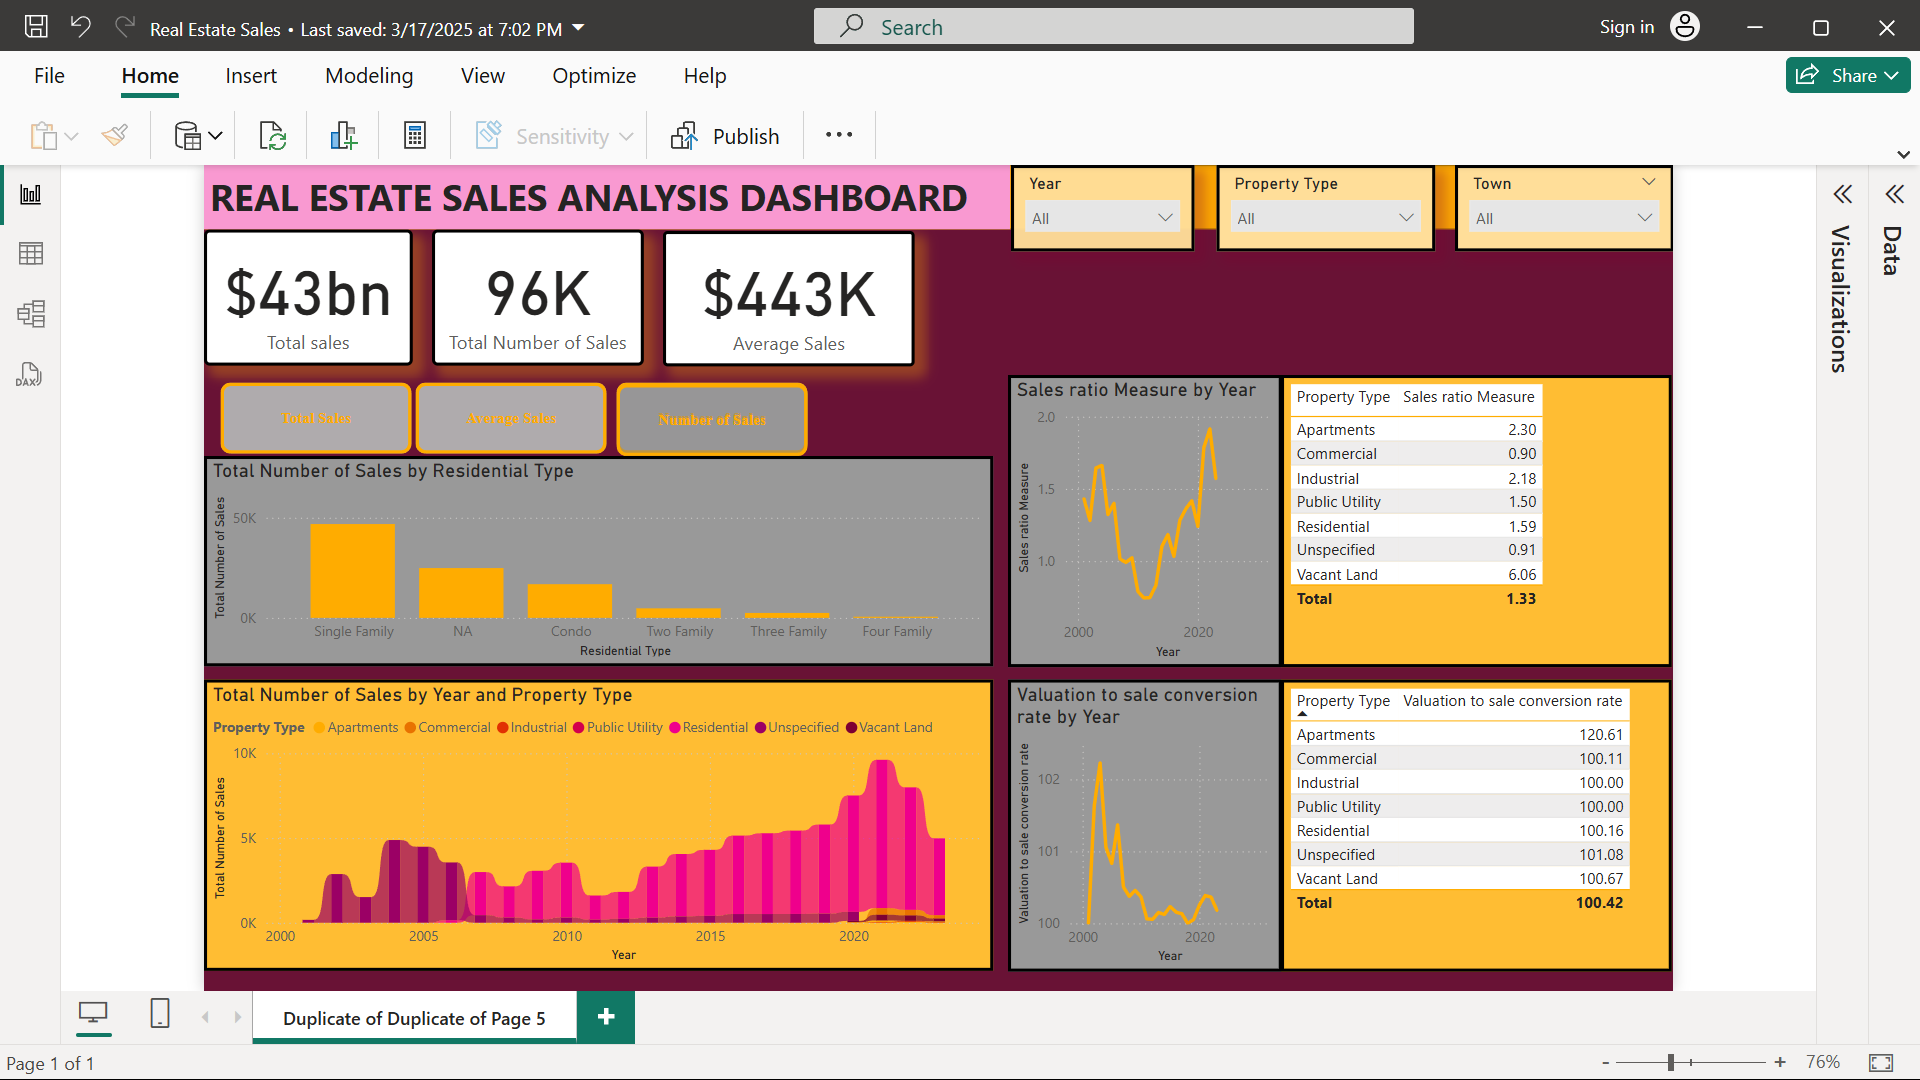

The dashboard page shown, as its layout file describes it:
{"tool":"powerbi","page":{"name":"Duplicate of Duplicate of Page 5","canvas":[1280,720],"ordinal":0},"visuals":[{"type":"shape","box":[0,0,1279.5,56],"z":0},{"type":"card","fields":{"Values":["Real_Estate_Sales_2001-2022_GL.Total sales"]},"box":[0,56.2,181.7,119],"z":1000},{"type":"card","fields":{"Values":["Real_Estate_Sales_2001-2022_GL.Total Number of Sales"]},"box":[198.7,56.2,184.4,119],"z":4000},{"type":"card","fields":{"Values":["Real_Estate_Sales_2001-2022_GL.Average Sales"]},"box":[400.1,57.5,219.7,117.7],"z":5000},{"type":"lineChart","fields":{"Y":["Real_Estate_Sales_2001-2022_GL.Valuation to sale conversion rate"],"Category":["CALENDAR.Date Hierachy.Year"]},"box":[700.4,448.7,238.7,254.5],"z":6000},{"type":"barChart","fields":{"Category":["Real_Estate_Sales_2001-2022_GL.Property Type"],"Y":["Real_Estate_Sales_2001-2022_GL.Valuation to sale conversion rate"]},"box":[939.1,448.7,340.8,254.5],"z":7000},{"type":"slicer","fields":{"Values":["CALENDAR.Year"]},"box":[702.9,0,159.8,75.1],"z":8000},{"type":"slicer","fields":{"Values":["Real_Estate_Sales_2001-2022_GL.Property Type"]},"box":[882,0,190.7,75.1],"z":9000},{"type":"slicer","fields":{"Values":["Real_Estate_Sales_2001-2022_GL.Town"]},"box":[1090,0,190.7,75.1],"z":10000},{"type":"ribbonChart","fields":{"Y":["Real_Estate_Sales_2001-2022_GL.Total Number of Sales"],"Category":["CALENDAR.Date Hierachy.Year"],"Series":["Real_Estate_Sales_2001-2022_GL.Property Type"]},"box":[0,448.7,687.8,254],"z":15000},{"type":"clusteredColumnChart","fields":{"Y":["Real_Estate_Sales_2001-2022_GL.Total Number of Sales"],"Category":["Real_Estate_Sales_2001-2022_GL.Residential Type"]},"box":[0,254,687.8,183.1],"z":16000},{"type":"actionButton","title":"Inact Number of Sales","box":[359,190,166.6,62.1],"z":17000},{"type":"actionButton","title":"Inac Avg sales","box":[184,190,166.6,62.1],"z":18000},{"type":"actionButton","title":"Inact Total Sales","box":[14,190,166.6,62.1],"z":19000},{"type":"actionButton","title":"Act Num of Sales","box":[359.6,191,166.6,63],"z":20000},{"type":"textbox","box":[0,0,702.6,56],"z":23000},{"type":"lineChart","fields":{"Y":["Real_Estate_Sales_2001-2022_GL.Sales ratio Measure"],"Category":["CALENDAR.Date Hierachy.Year"]},"box":[700.4,182.6,238.7,254.5],"z":24000},{"type":"barChart","fields":{"Category":["Real_Estate_Sales_2001-2022_GL.Property Type"],"Y":["Real_Estate_Sales_2001-2022_GL.Sales ratio Measure"]},"box":[939.1,182.6,340.8,254.5],"z":25000}]}

Visuals, with their boxes on the page's 1280x720 design canvas (x1, y1, x2, y2). These are canvas units, not pixel positions in the 1920x1080 screenshot, which may show the page scaled, cropped or inside an application window:
shape: left=0, top=0, right=1280, bottom=56
card - Real_Estate_Sales_2001-2022_GL.Total sales: left=0, top=56, right=182, bottom=175
card - Real_Estate_Sales_2001-2022_GL.Total Number of Sales: left=199, top=56, right=383, bottom=175
card - Real_Estate_Sales_2001-2022_GL.Average Sales: left=400, top=58, right=620, bottom=175
lineChart - Real_Estate_Sales_2001-2022_GL.Valuation to sale conversion rate x CALENDAR.Date Hierachy.Year: left=700, top=449, right=939, bottom=703
barChart - Real_Estate_Sales_2001-2022_GL.Property Type x Real_Estate_Sales_2001-2022_GL.Valuation to sale conversion rate: left=939, top=449, right=1280, bottom=703
slicer - CALENDAR.Year: left=703, top=0, right=863, bottom=75
slicer - Real_Estate_Sales_2001-2022_GL.Property Type: left=882, top=0, right=1073, bottom=75
slicer - Real_Estate_Sales_2001-2022_GL.Town: left=1090, top=0, right=1281, bottom=75
ribbonChart - Real_Estate_Sales_2001-2022_GL.Total Number of Sales x CALENDAR.Date Hierachy.Year: left=0, top=449, right=688, bottom=703
clusteredColumnChart - Real_Estate_Sales_2001-2022_GL.Total Number of Sales x Real_Estate_Sales_2001-2022_GL.Residential Type: left=0, top=254, right=688, bottom=437
"Inact Number of Sales" actionButton: left=359, top=190, right=526, bottom=252
"Inac Avg sales" actionButton: left=184, top=190, right=351, bottom=252
"Inact Total Sales" actionButton: left=14, top=190, right=181, bottom=252
"Act Num of Sales" actionButton: left=360, top=191, right=526, bottom=254
textbox: left=0, top=0, right=703, bottom=56
lineChart - Real_Estate_Sales_2001-2022_GL.Sales ratio Measure x CALENDAR.Date Hierachy.Year: left=700, top=183, right=939, bottom=437
barChart - Real_Estate_Sales_2001-2022_GL.Property Type x Real_Estate_Sales_2001-2022_GL.Sales ratio Measure: left=939, top=183, right=1280, bottom=437
